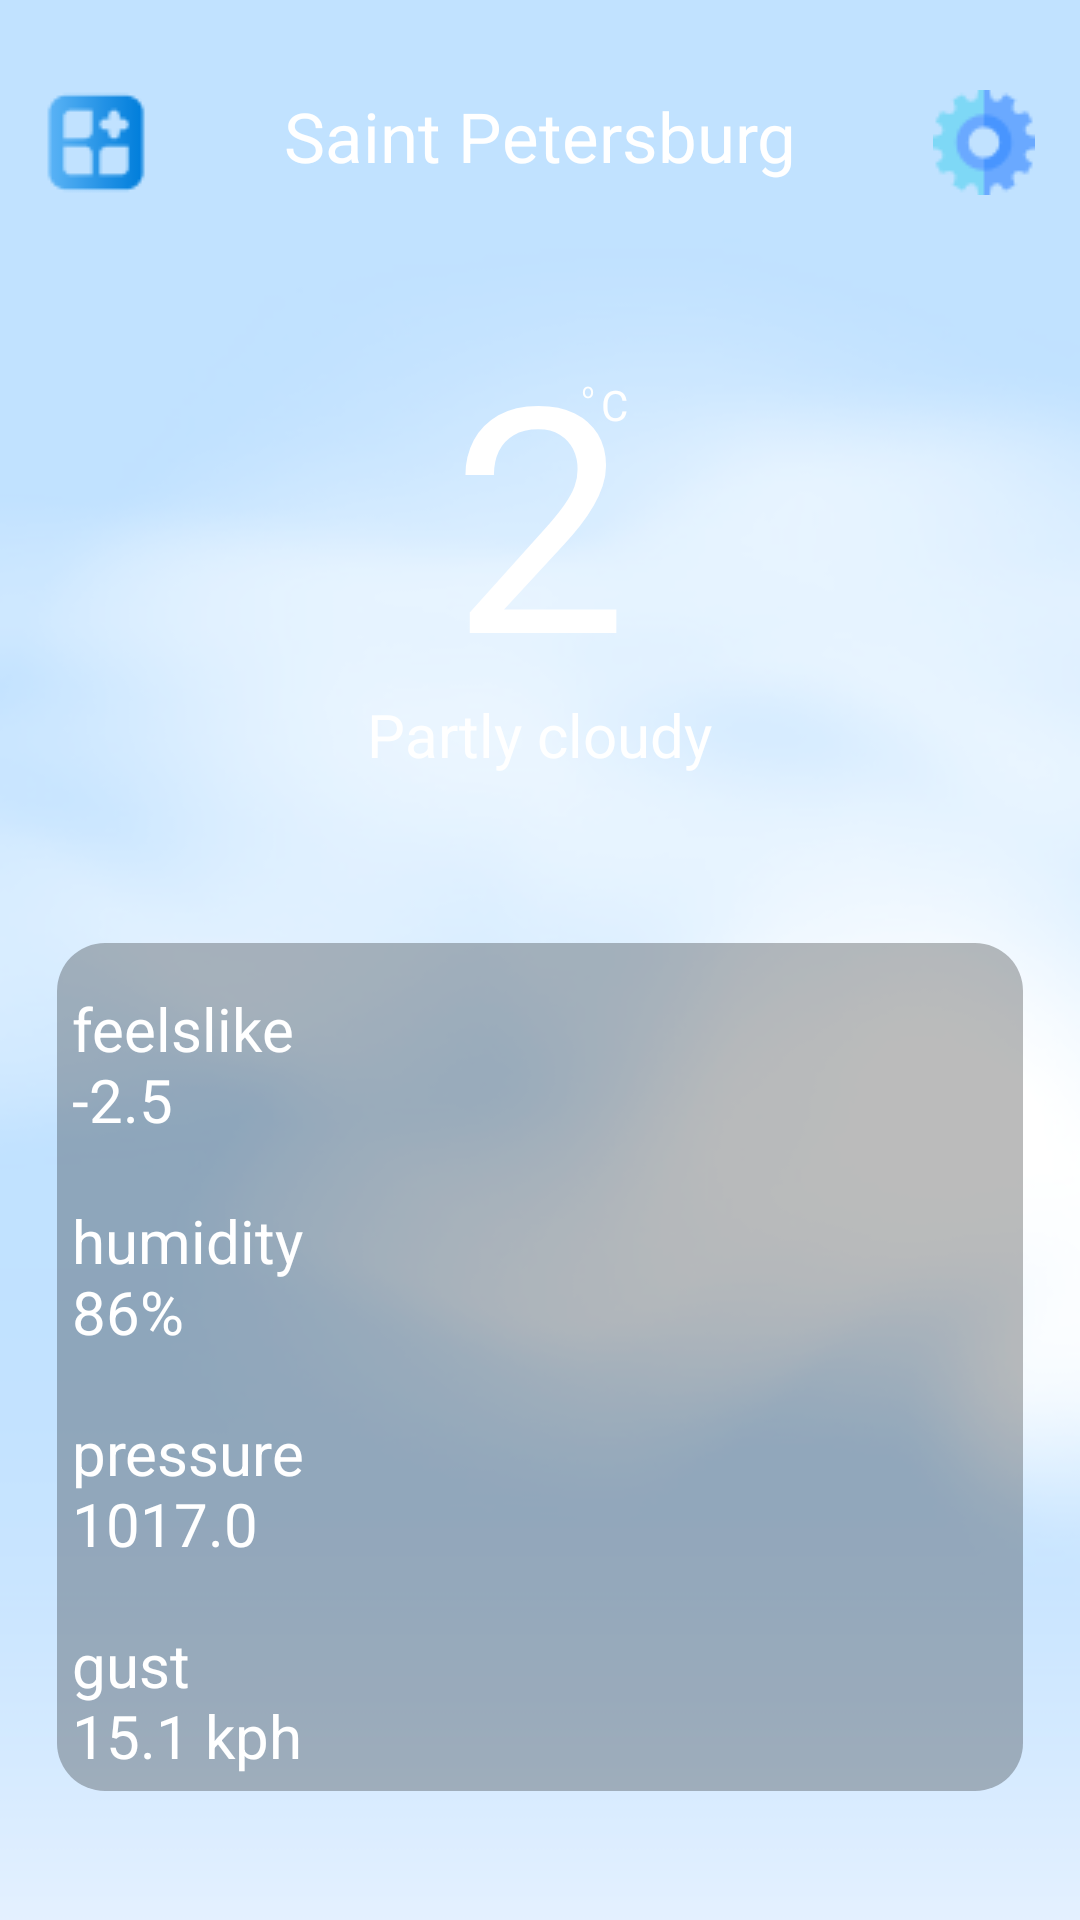

Icons on this 1080px x 1920px Android screen, each with its box as (x1, y1, x2, y2):
add: (48, 95, 145, 190)
settings: (933, 90, 1035, 195)
